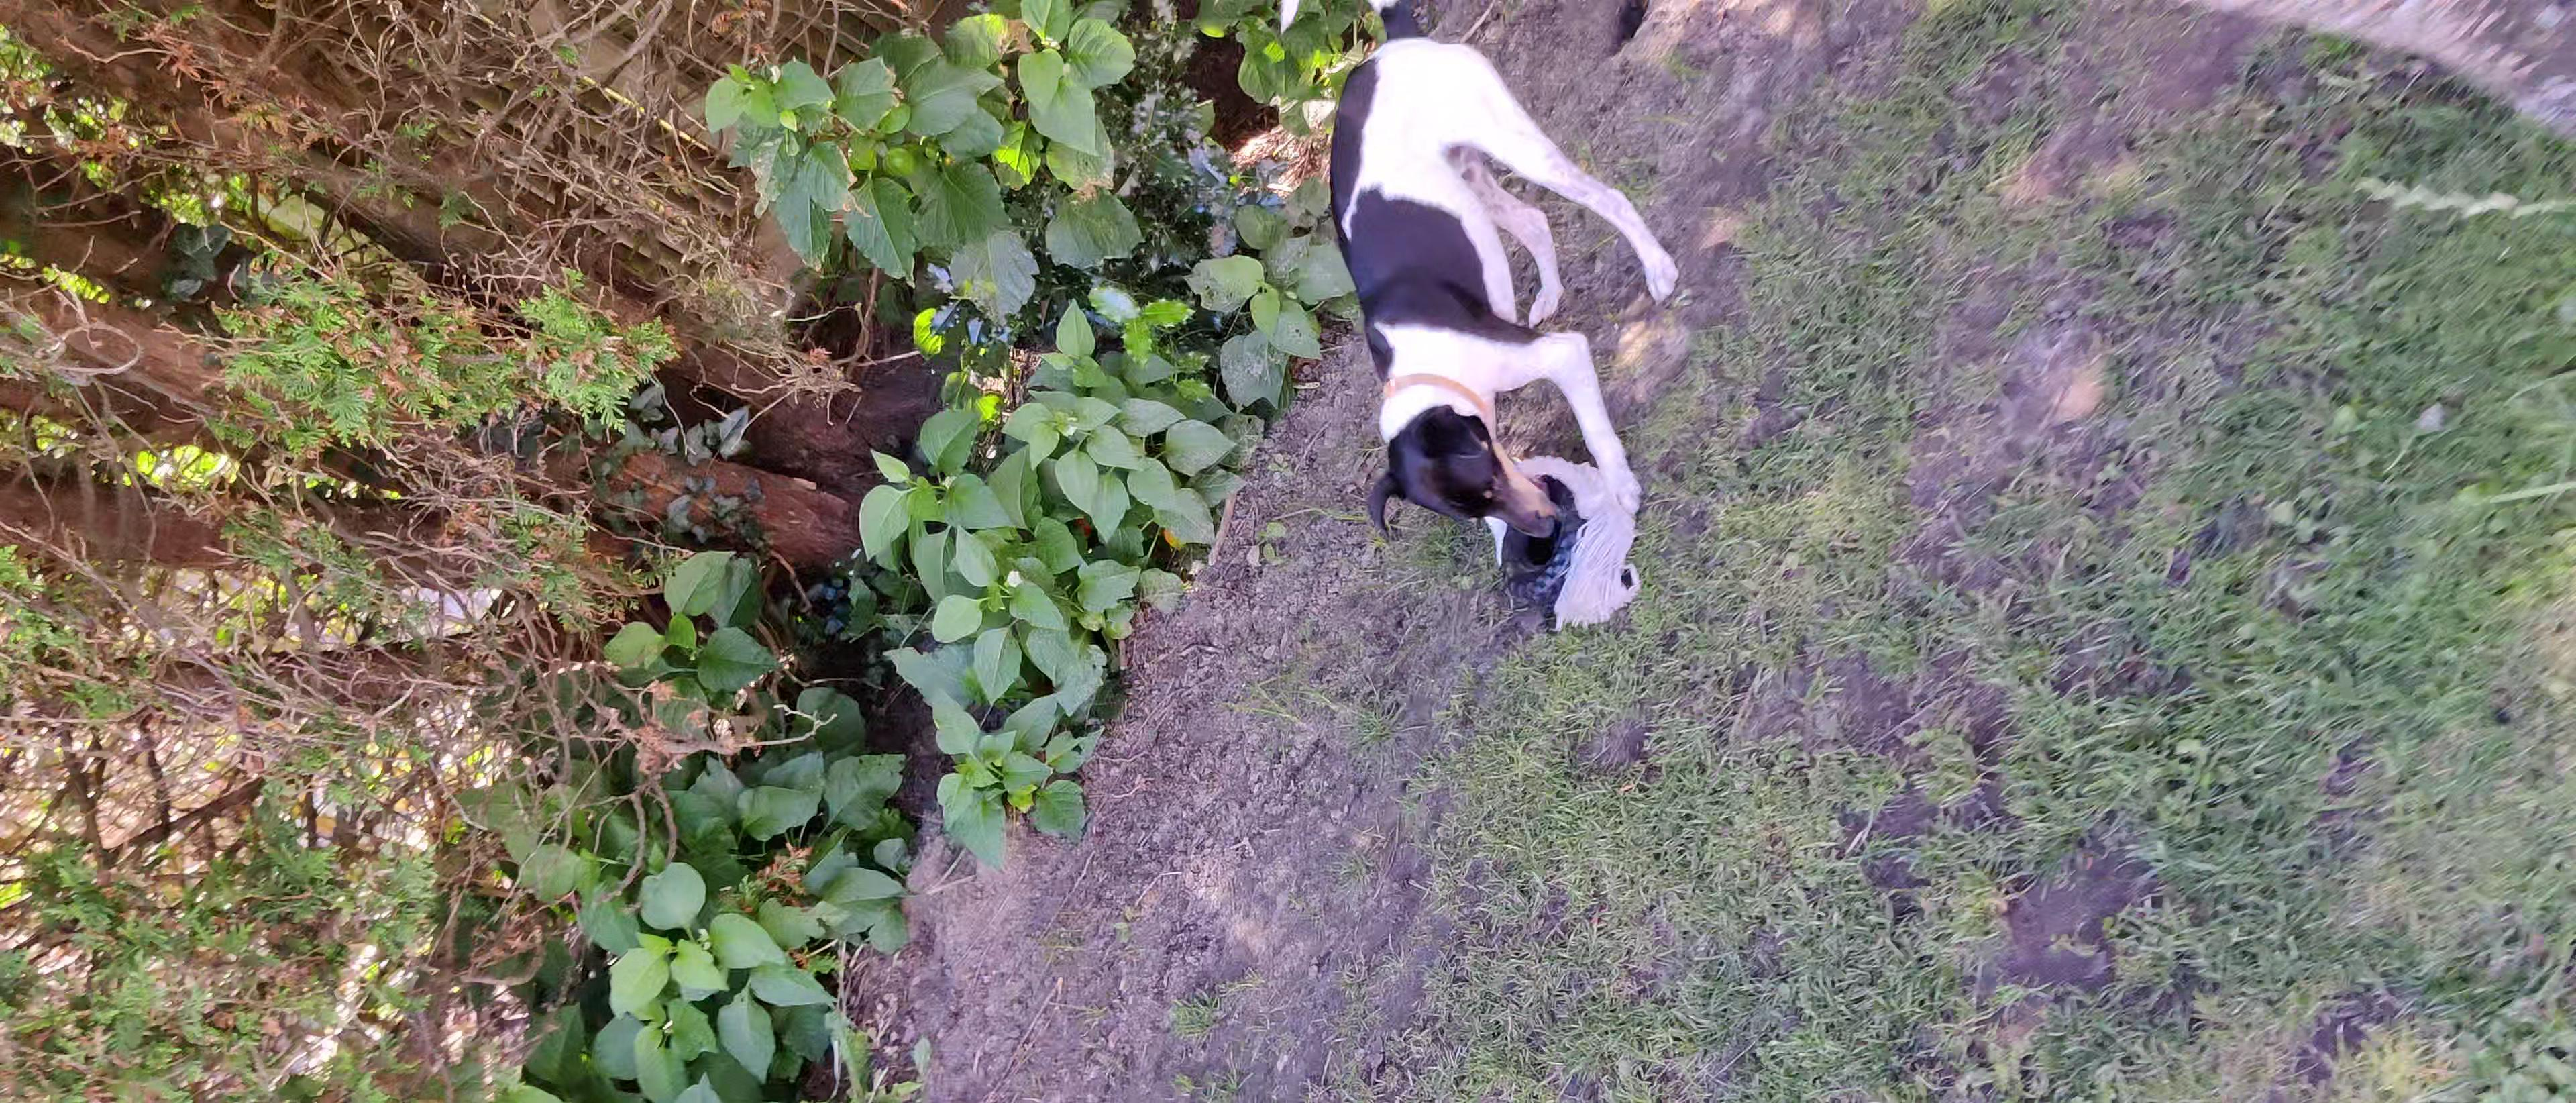Dog: (1265, 0, 1684, 590)
